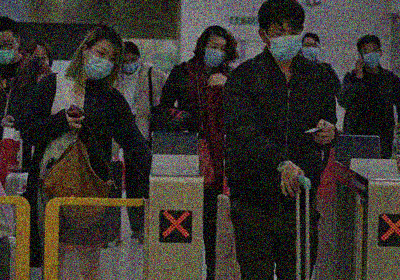with_mask: (268, 26, 302, 64), (84, 47, 115, 81), (202, 41, 228, 70), (360, 46, 381, 69), (0, 38, 16, 64), (301, 40, 318, 61), (120, 56, 139, 74)
